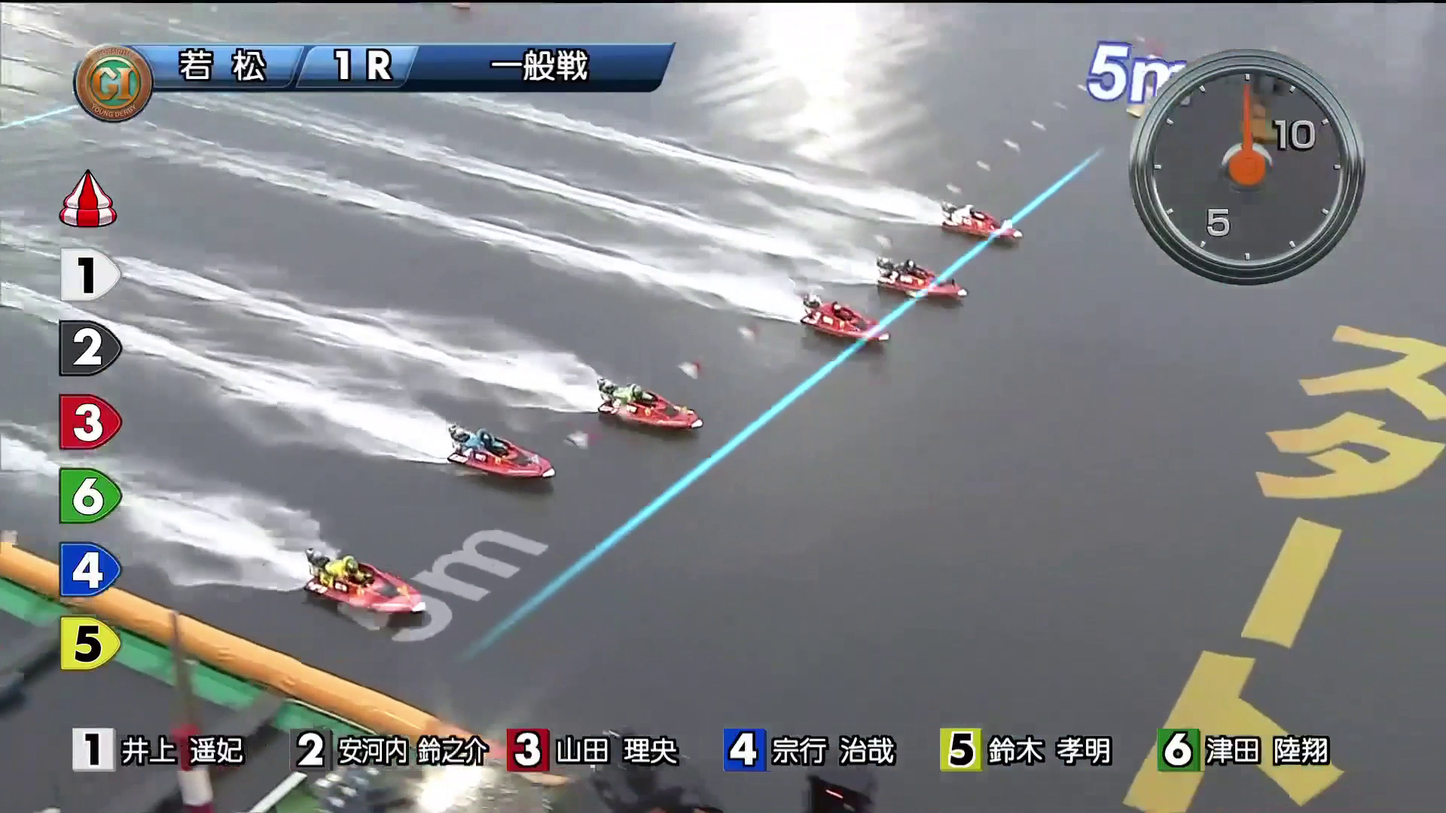１号艇: (894, 203, 968, 249)
２号艇: (882, 259, 944, 297)
３号艇: (809, 299, 864, 340)
４号艇: (627, 382, 692, 425)
５号艇: (494, 453, 563, 491)
６号艇: (400, 589, 465, 635)
